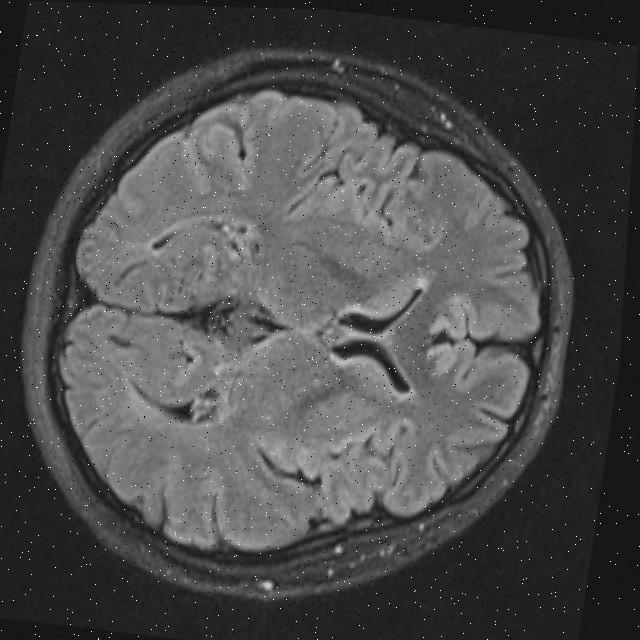NoTumor: (0, 16, 610, 630)
